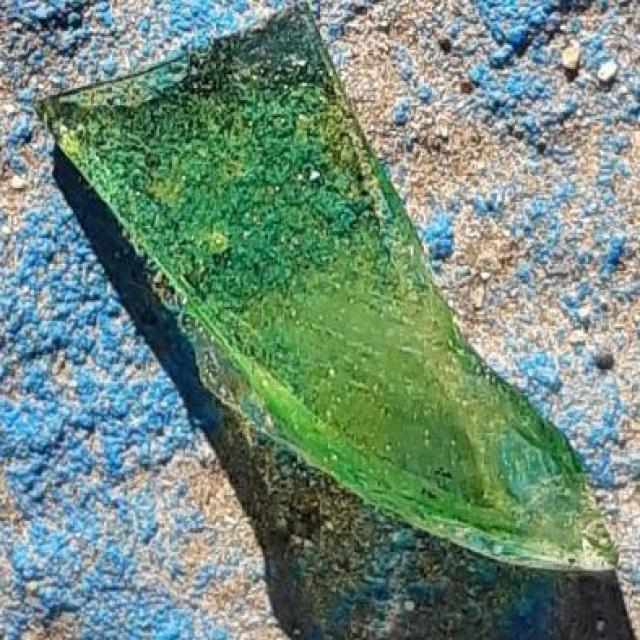Dry: (129, 66, 377, 331), (217, 288, 473, 435), (338, 402, 588, 530), (32, 52, 142, 195), (203, 5, 320, 68)
